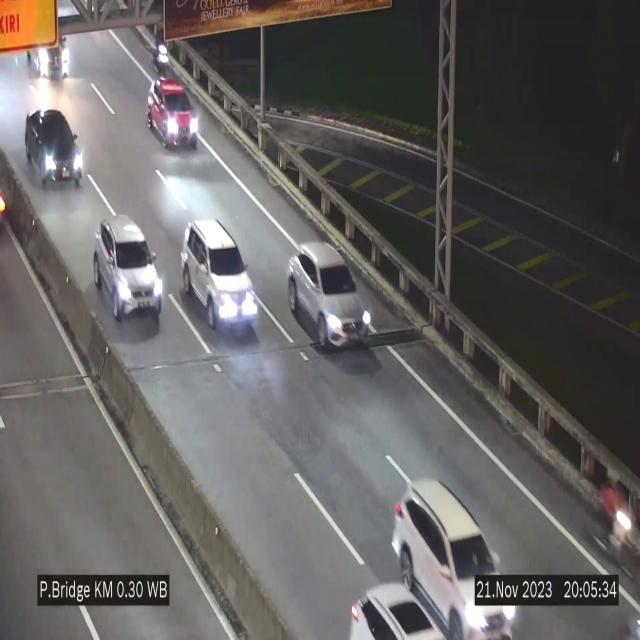Car: (386, 462, 534, 640), (287, 243, 372, 348), (181, 221, 259, 333), (94, 216, 164, 322), (347, 583, 458, 640), (28, 105, 86, 189), (148, 79, 200, 148), (27, 25, 81, 85)
Motorcycle: (588, 468, 636, 576), (152, 23, 170, 86)
